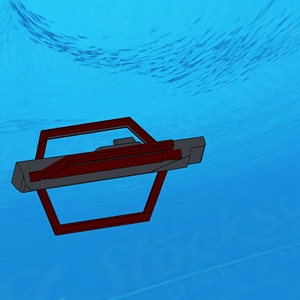submarine: (13, 117, 206, 236)
